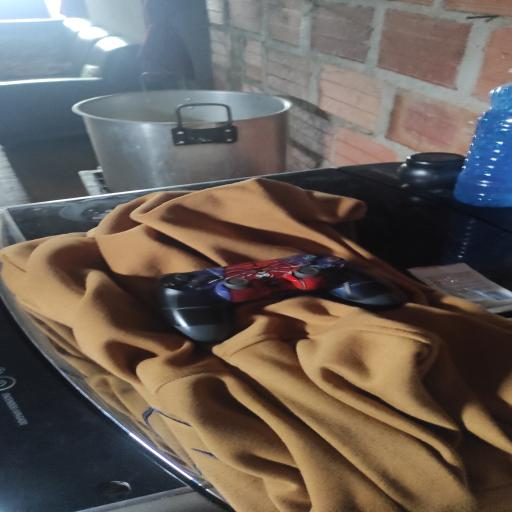ControlPlay4: (158, 254, 407, 344)
